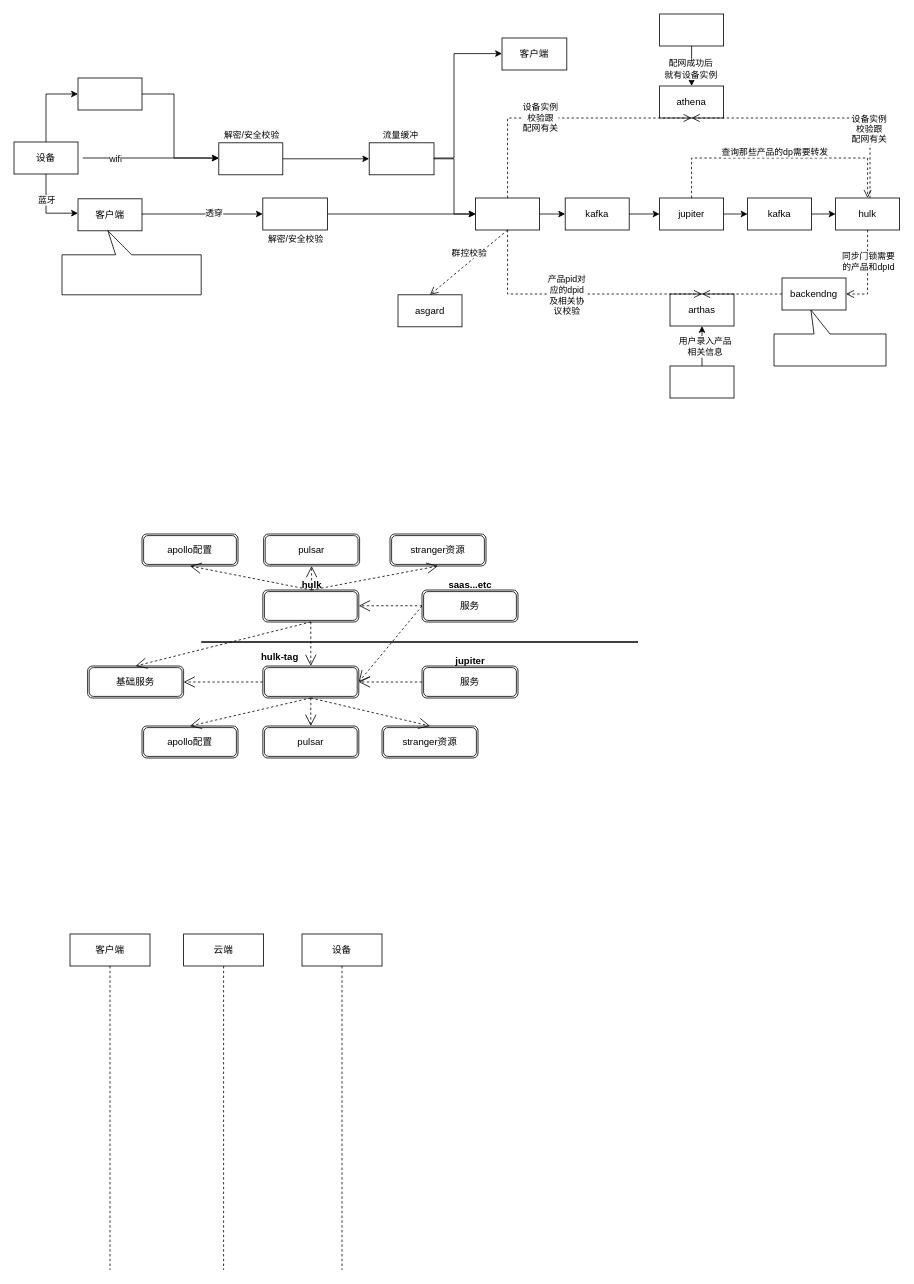
Image size: 914x1284. Some labels were removed from this diagram. The shapes that lost their labels are listed below. From the top down, each one's centre as x and y in pixels, then its label:
At (691,29): "apollo".
At (109,93): "蓝牙/zigbee网关".
At (250,158): "levimq".
At (401,158): "nsq".
At (295,213): "atop".
At (507,213): "zeus".
At (131,262): "tuya.device.m.dp.report 新版本的type不要选query".
At (829,337): "手工录入门锁需 要的产品和dpId".
At (701,381): "iot".
At (310,605): "业务".
At (310,681): "打标服务等".
